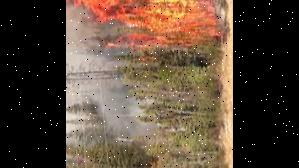fire: (65, 0, 224, 54)
